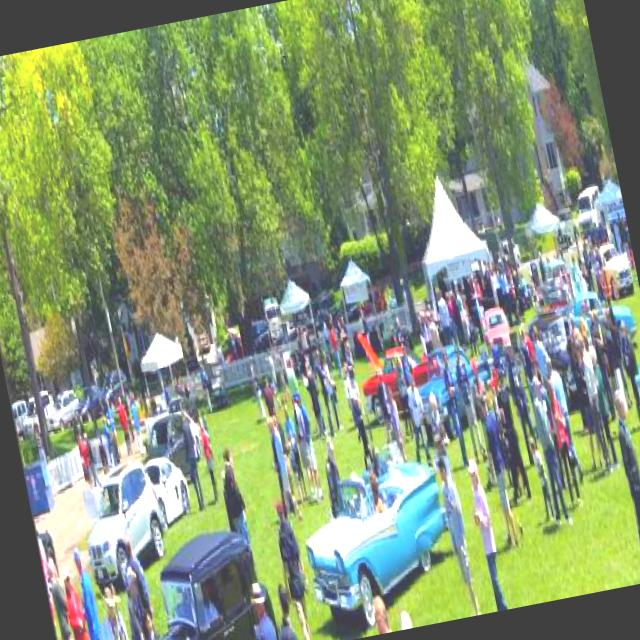Person: (405, 242, 539, 362), (560, 290, 640, 472), (256, 370, 330, 528), (472, 389, 522, 547), (525, 371, 574, 532), (435, 449, 482, 616), (269, 498, 321, 640), (462, 459, 508, 612), (488, 364, 532, 506), (609, 385, 640, 580), (543, 352, 586, 488), (544, 374, 585, 516), (448, 336, 488, 468), (216, 442, 258, 562), (69, 543, 113, 640), (438, 344, 473, 464), (422, 388, 462, 490), (399, 363, 436, 472), (175, 405, 209, 518), (45, 557, 85, 640), (525, 428, 558, 528), (59, 566, 99, 640), (316, 433, 350, 519), (194, 410, 223, 506), (92, 580, 137, 640), (298, 357, 329, 443), (241, 578, 282, 640), (348, 386, 376, 470), (311, 346, 338, 430), (382, 383, 410, 461), (320, 349, 345, 434), (268, 581, 301, 640), (340, 470, 371, 524), (528, 321, 554, 378), (75, 428, 95, 493), (366, 467, 388, 521), (82, 428, 101, 490), (115, 398, 132, 450), (197, 359, 214, 410), (370, 594, 390, 634), (94, 426, 110, 471)
